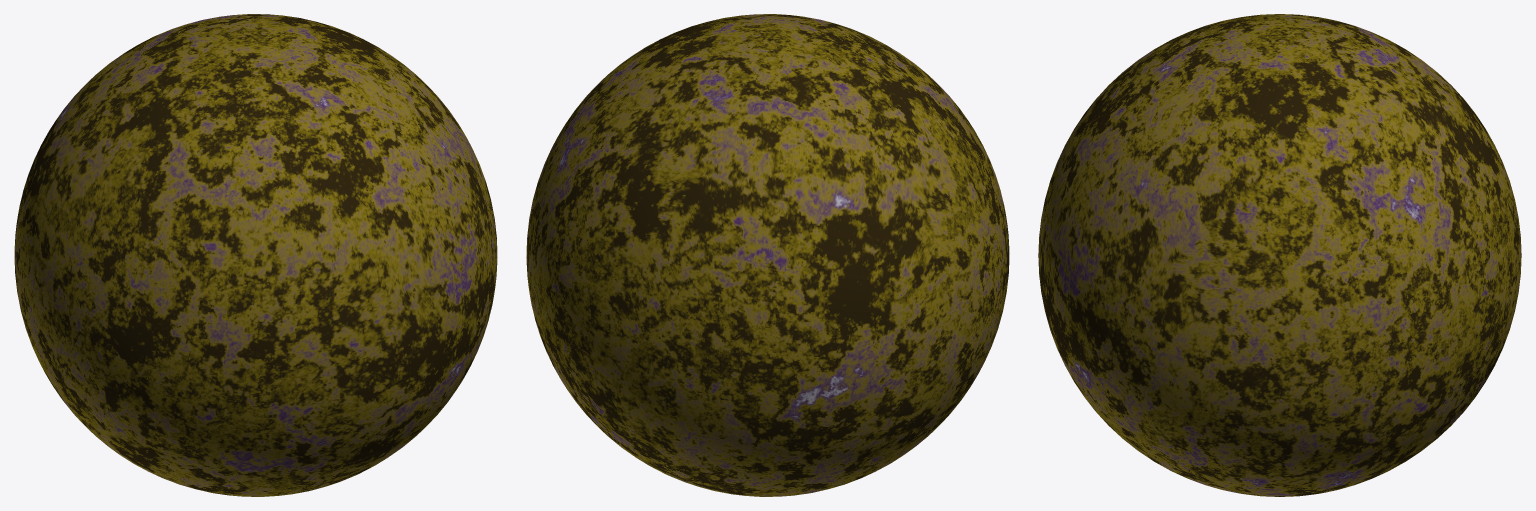
The model's file is lugenia.glb.
The picture shows the model from 3 angles, left to right: view 1: azimuth 30°, elevation 25°; view 2: azimuth 150°, elevation 25°; view 3: azimuth 270°, elevation 25°; orthographic projection.
Visible parts, largest first — view 1: Planet; view 2: Planet; view 3: Planet.
Boxes of the visible parts, <box> form: Planet: <box>14,14,497,496</box>; Planet: <box>526,14,1009,496</box>; Planet: <box>1038,14,1521,496</box>.
Bounding box in the file's own units: 1.76 × 1.76 × 1.76.
1 material, 1 textured.
